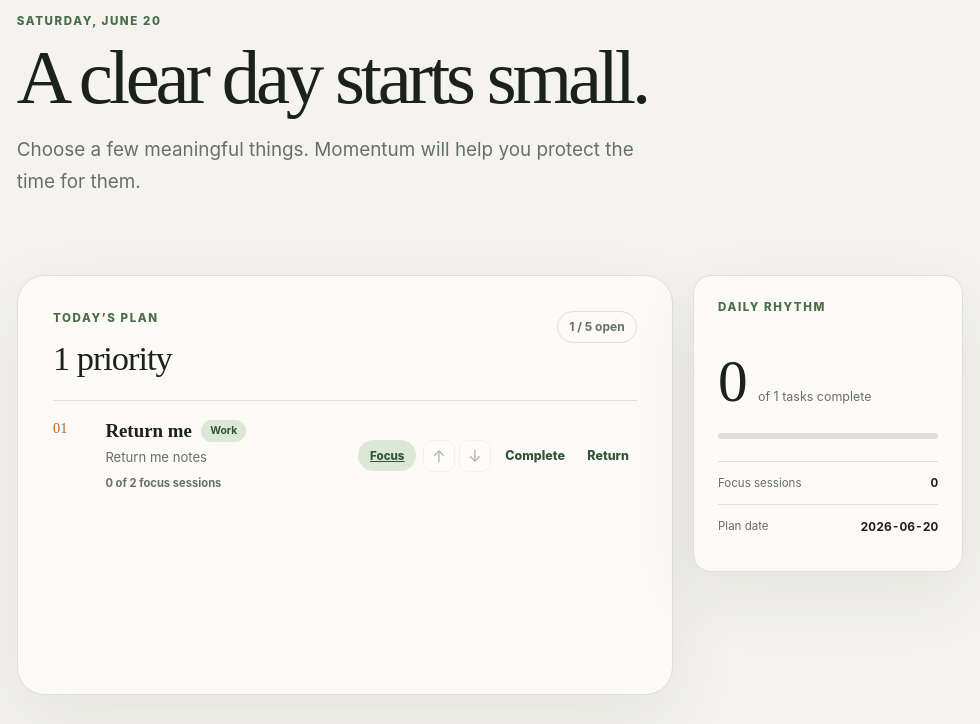
Test: Today workspace › returns a task to Inbox and persists the transition
Click the button named "Return Return me to Inbox" at (608, 456), box left=579, top=440, right=637, bottom=471
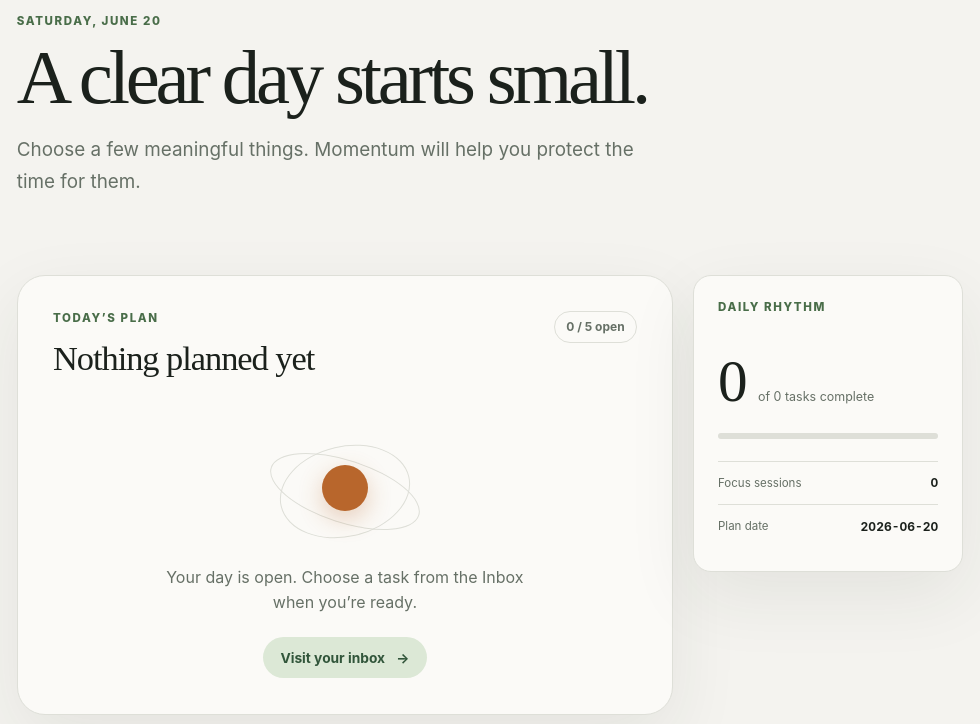
Now the heading "Return me" is gone
